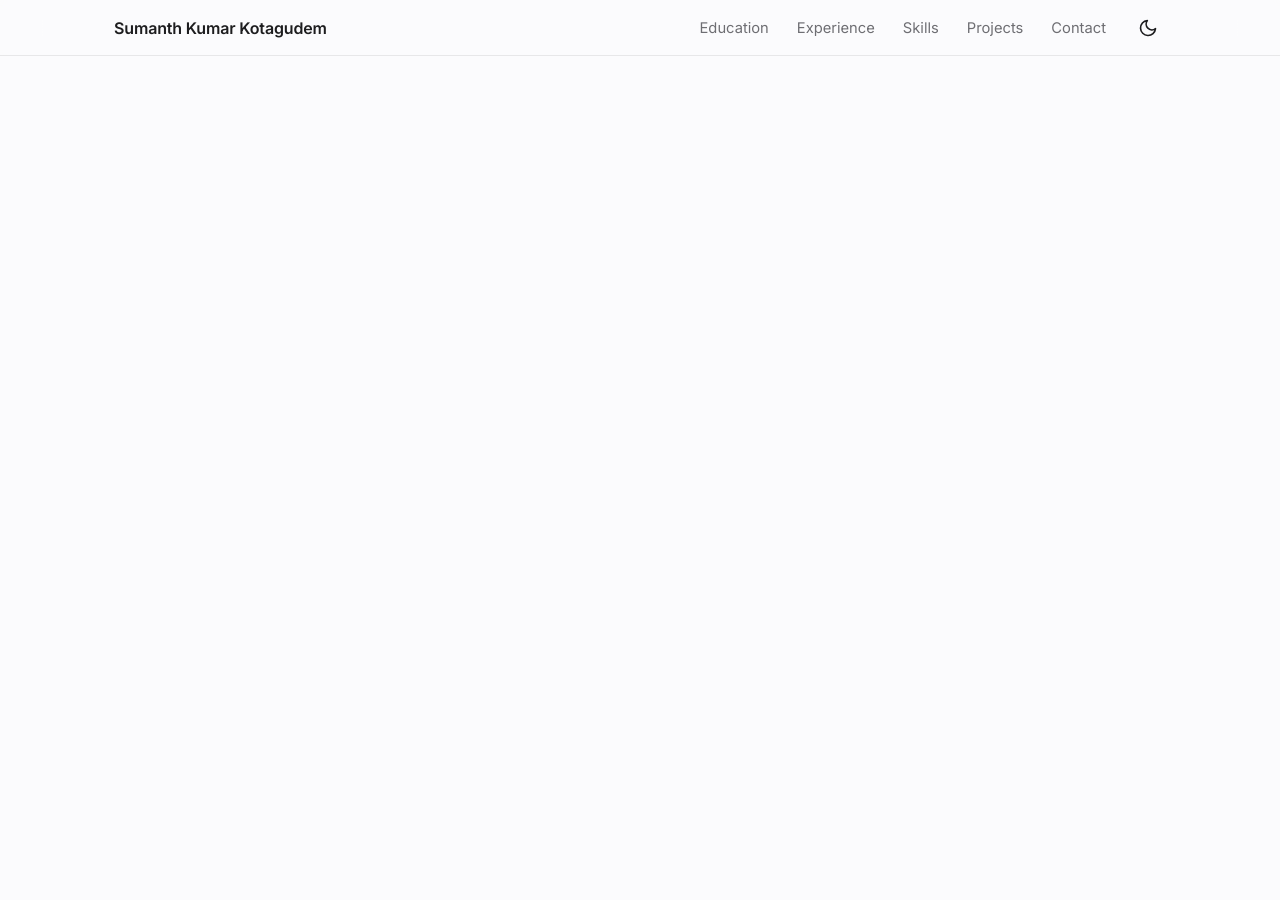
it: Nav › has a theme toggle that switches the page theme and its own label
Click the button named "switch to dark mode": point(1148, 28) [1130,10,1166,46]
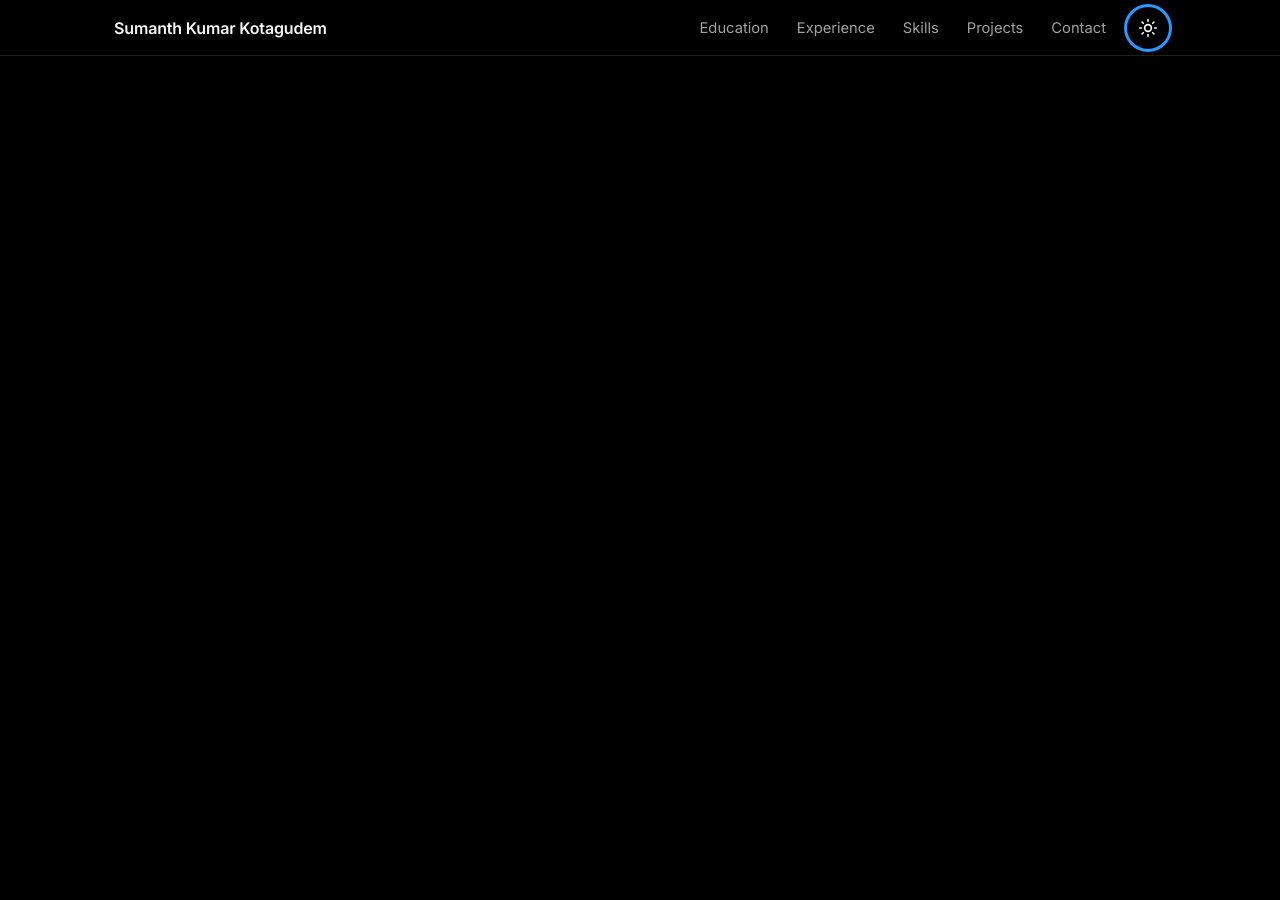
Check: the button named "switch to light mode" is shown, box [1130,10,1166,46]
